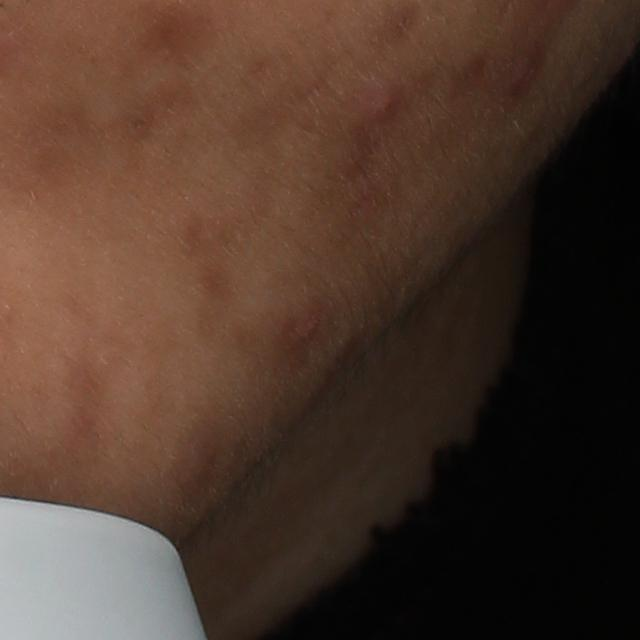papule: (363, 91, 400, 122), (298, 311, 325, 342)
